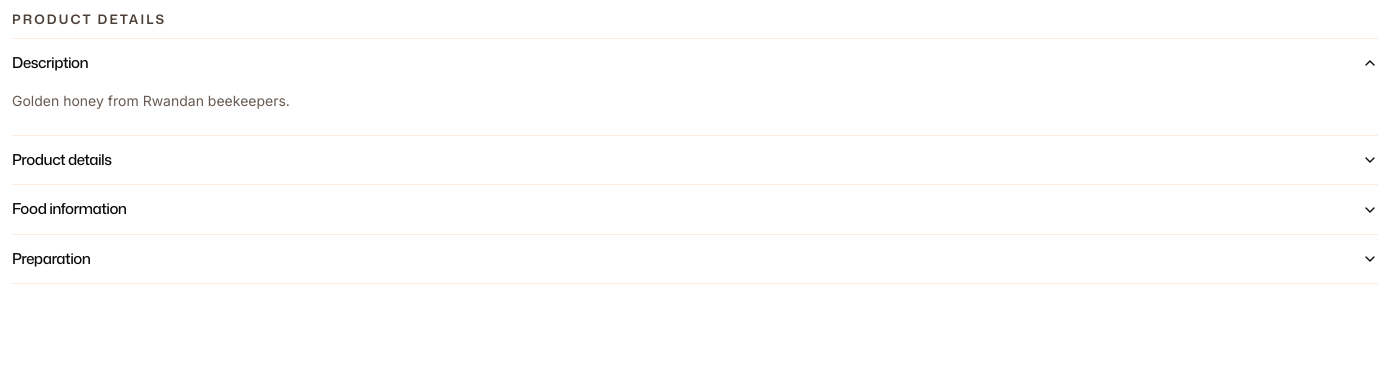
Test: ProductFacts › renders structured preparation steps as an ordered list
The width and height of the screenshot is (1390, 377).
Click the button "Preparation" at point(51, 258), box [12,235,1378,283]
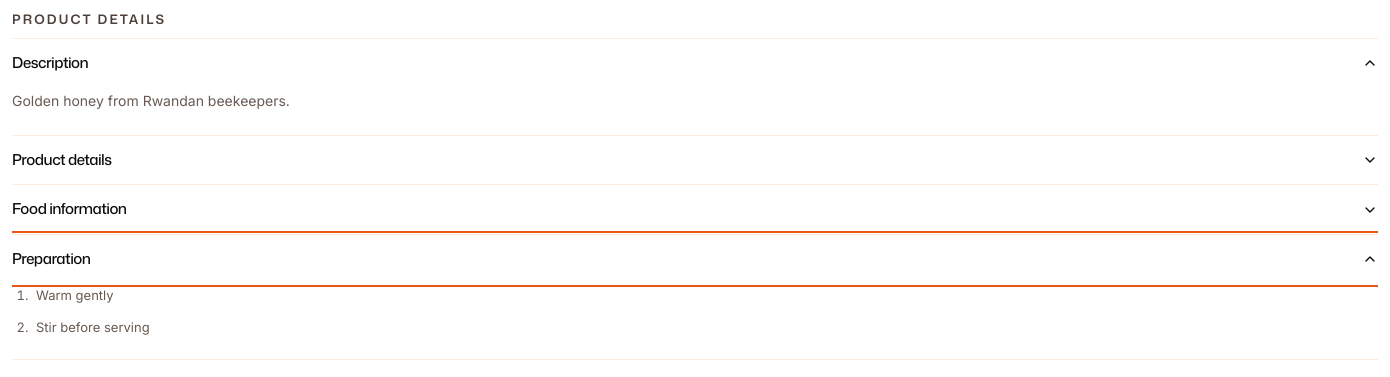
Result: the list is shown at [36,287,150,335]
Result: the list item "Warm gently" is shown at [36,287,114,303]
Result: the list item "Stir before serving" is shown at [36,319,150,335]
